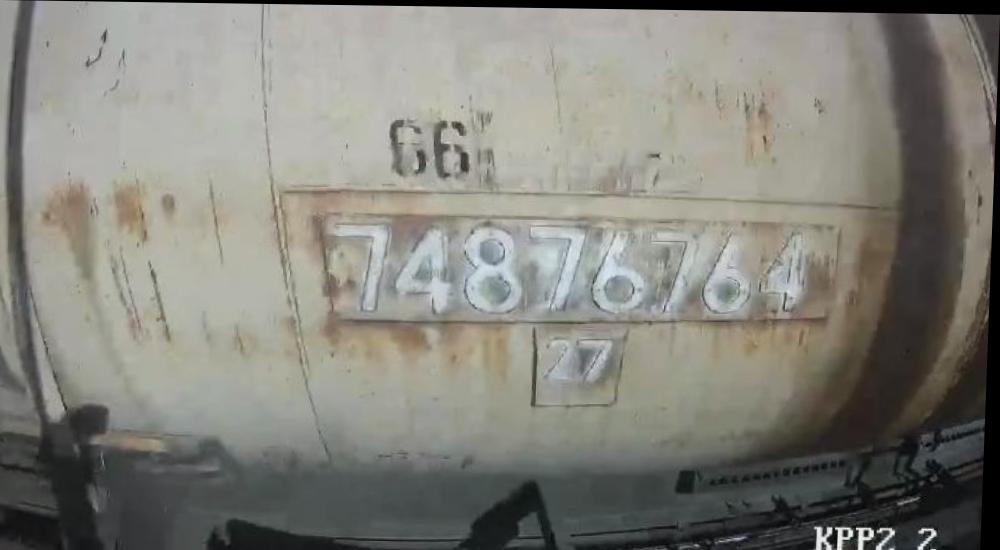Wagon-number: (328, 213, 815, 321)
